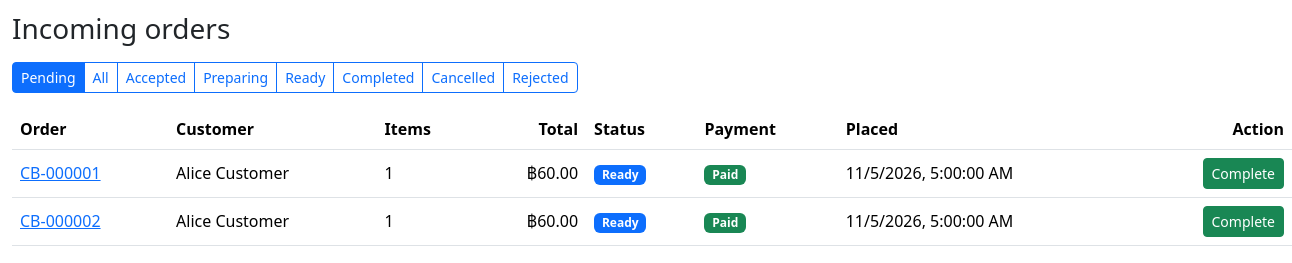
Test: OperatorOrders fulfilment actions (AC-86) › TEST-86: Complete shows Updating… while pending, then the row shows the new status
The width and height of the screenshot is (1292, 263).
Later steps or results of the test are not shown.
Expected: the link "CB-000001" is shown, [20,162,101,184]
Step 1. Click the button "All" → (101,77), box [84,62,118,93]
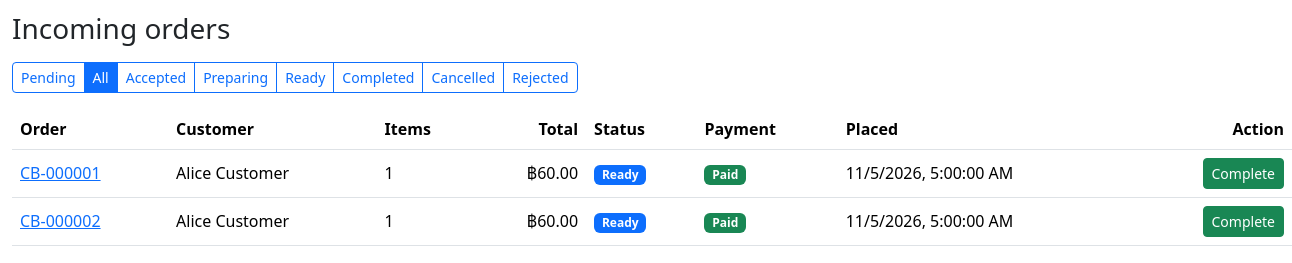
Step 2. Click the button "Complete" in the row of "CB-000001" → (1243,173), box [1202,158,1284,189]
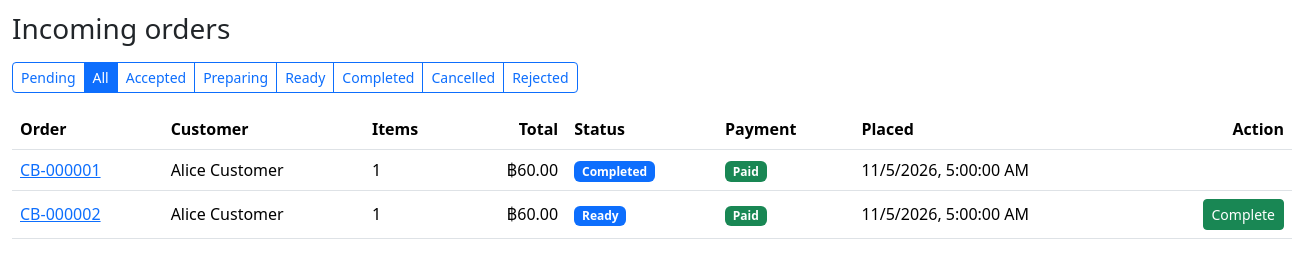
Expected: the button "Complete" is enabled, [1202,199,1284,230]
Expected: the text "Completed" is shown, [574,161,655,182]
